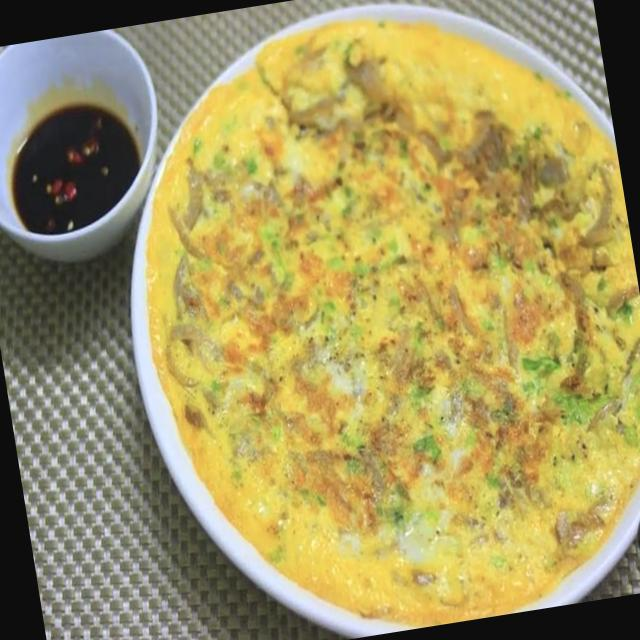nuoc tuong: (13, 105, 141, 235)
trung chien: (144, 19, 640, 626)
